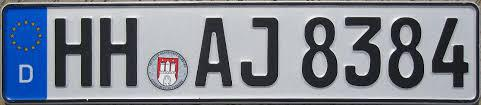3: (343, 14, 383, 88)
4: (430, 15, 471, 89)
8: (300, 16, 340, 89), (387, 16, 426, 90)
A: (193, 15, 234, 88)
H: (51, 16, 95, 90), (98, 16, 140, 89)
J: (240, 16, 280, 88)
